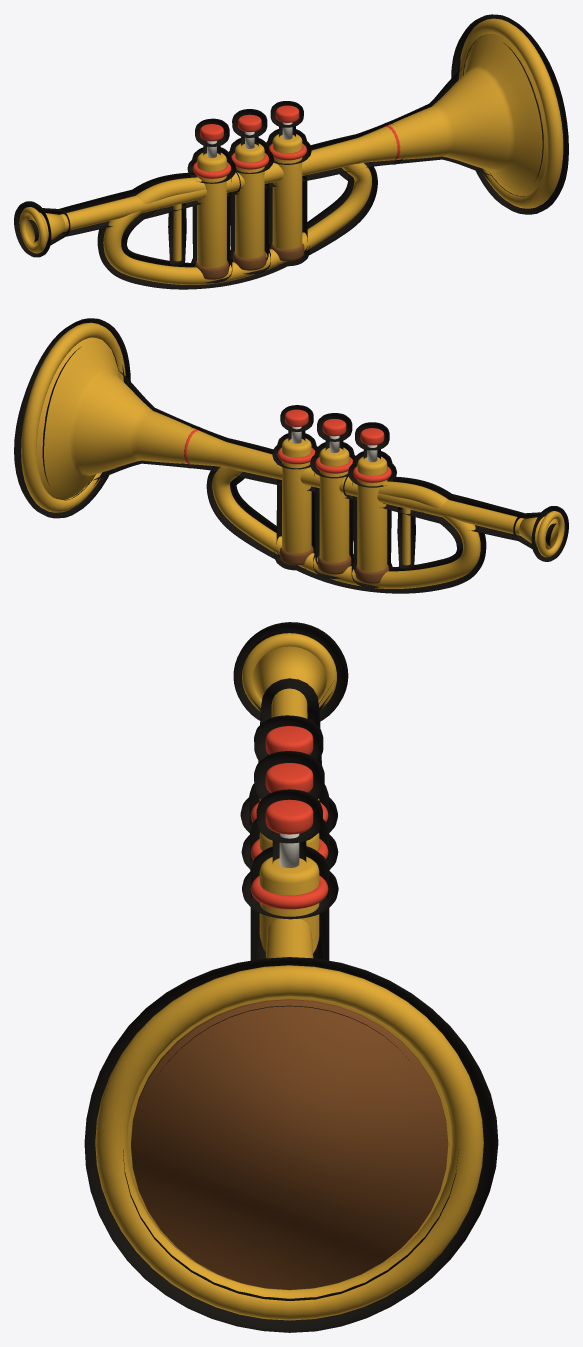
The model's file is trumpet.glb.
The picture shows the model from 3 angles, top to bottom: view 1: azimuth 30°, elevation 25°; view 2: azimuth 150°, elevation 25°; view 3: azimuth 270°, elevation 25°; orthographic projection. The views are drawn at different scales.
Parts seen in each view (by area): view 1: Trumpet, Trumpet_outline; view 2: Trumpet, Trumpet_outline; view 3: Trumpet, Trumpet_outline.
Boxes of the visible parts, x1,y1,x2,y2 form: Trumpet: (19, 18, 563, 284); Trumpet_outline: (14, 14, 568, 289); Trumpet: (21, 322, 564, 588); Trumpet_outline: (14, 318, 568, 593); Trumpet: (95, 633, 483, 1320); Trumpet_outline: (84, 622, 498, 1332).
Bounding box in the file's own units: 2.9 × 1.08 × 1.04.
